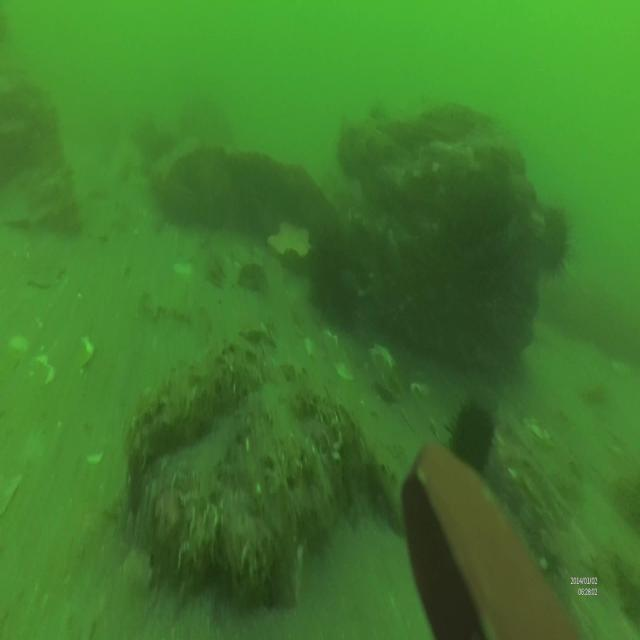echinus: (446, 398, 494, 477), (529, 198, 575, 277)
starfish: (269, 220, 311, 256)
